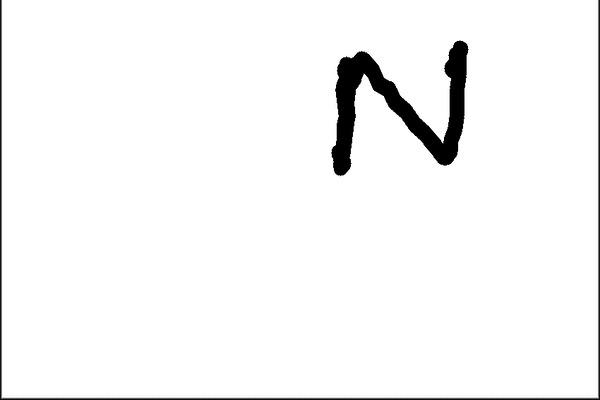N: (325, 32, 473, 179)
